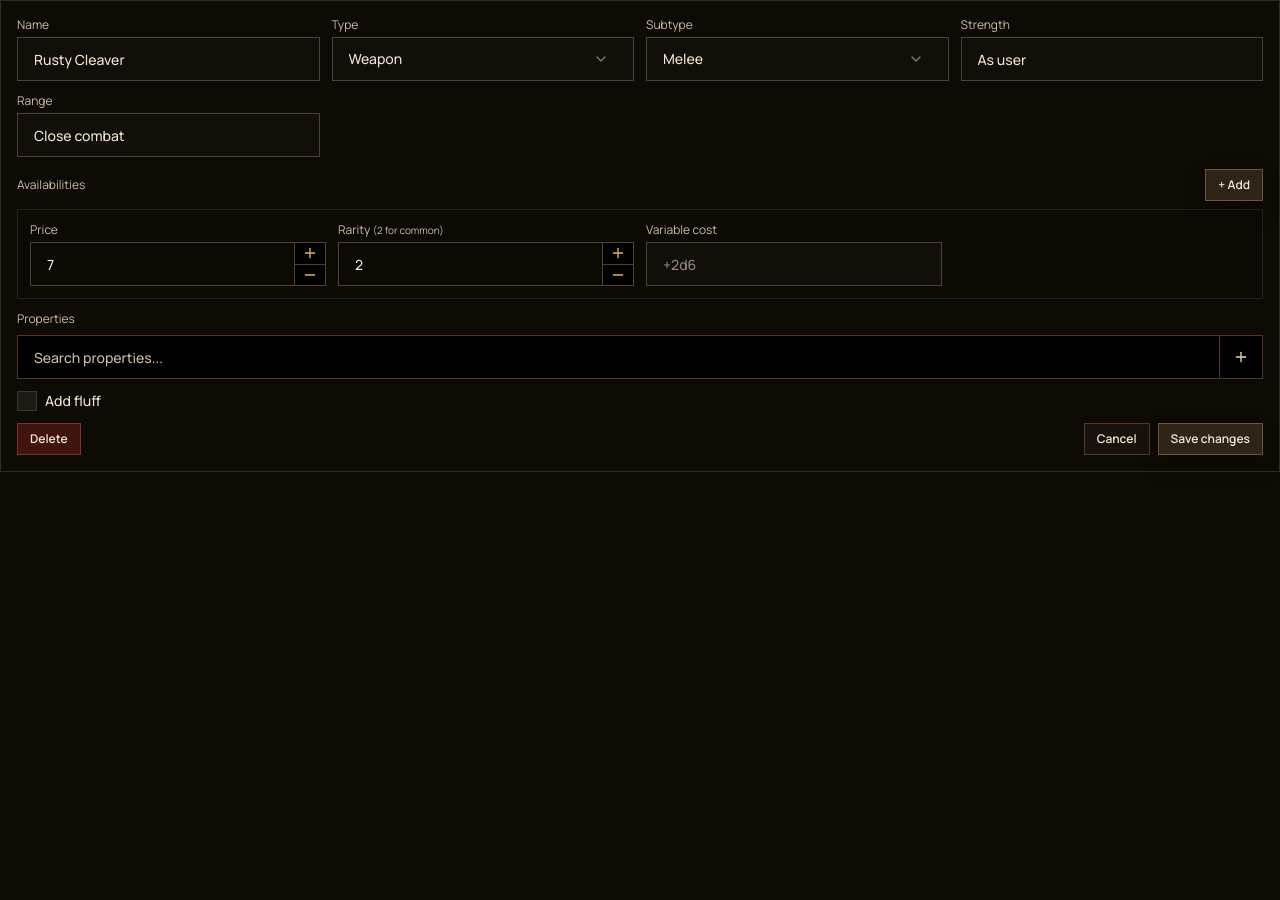
AddItemForm: Delete › waits for the usage check before offering the confirm, and still offers it when the check fails
Click the button "Delete": [49, 439] box [17,423,81,455]
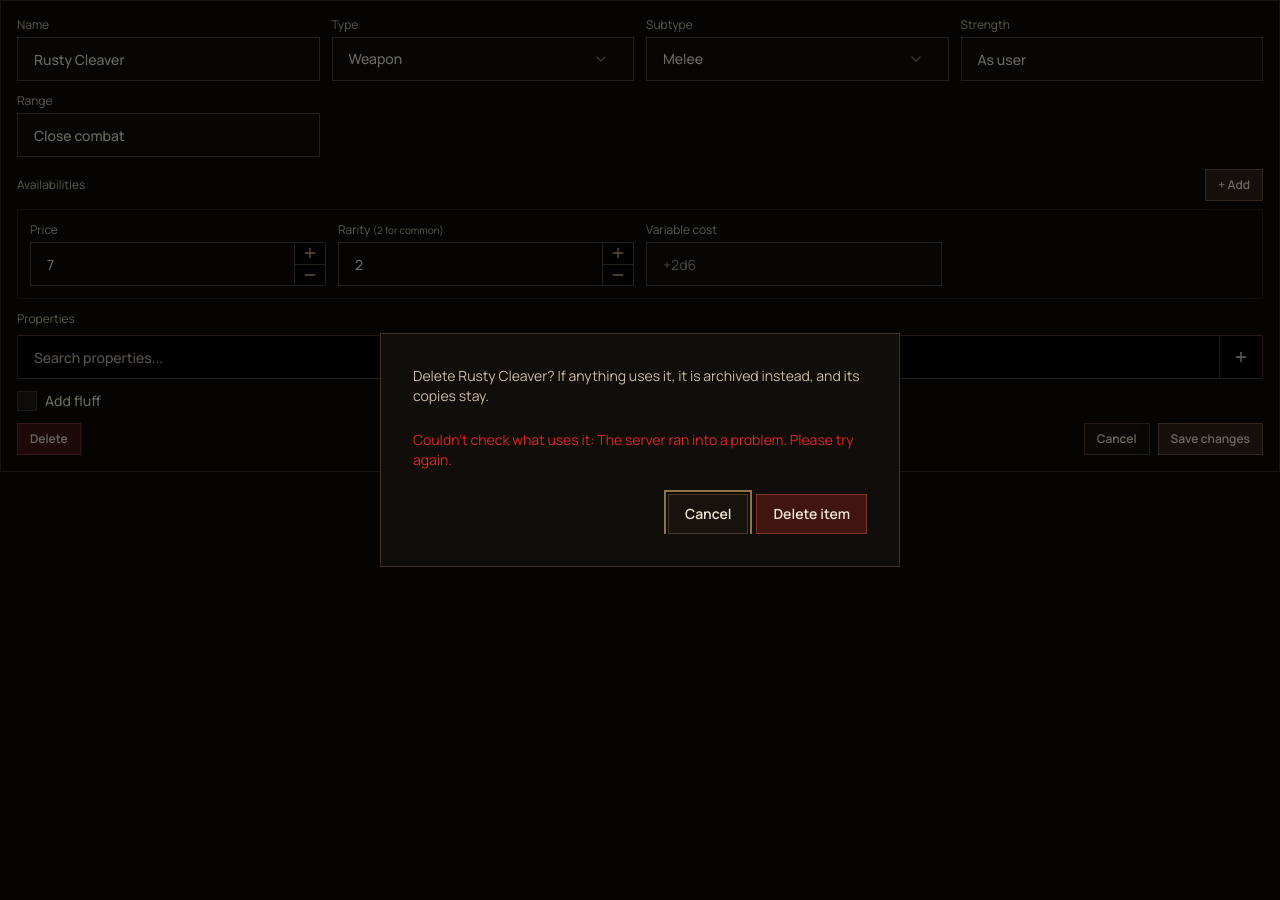
Now the message shows "Couldn't check what uses it", box [413,430,854,469]
Now the dialog named "Delete item" shows "Delete Rusty Cleaver? If anything uses it, it is archived instead, and its copies stay.", box [413,366,860,405]
Now the button "Delete item" is enabled, box [756,494,867,534]
